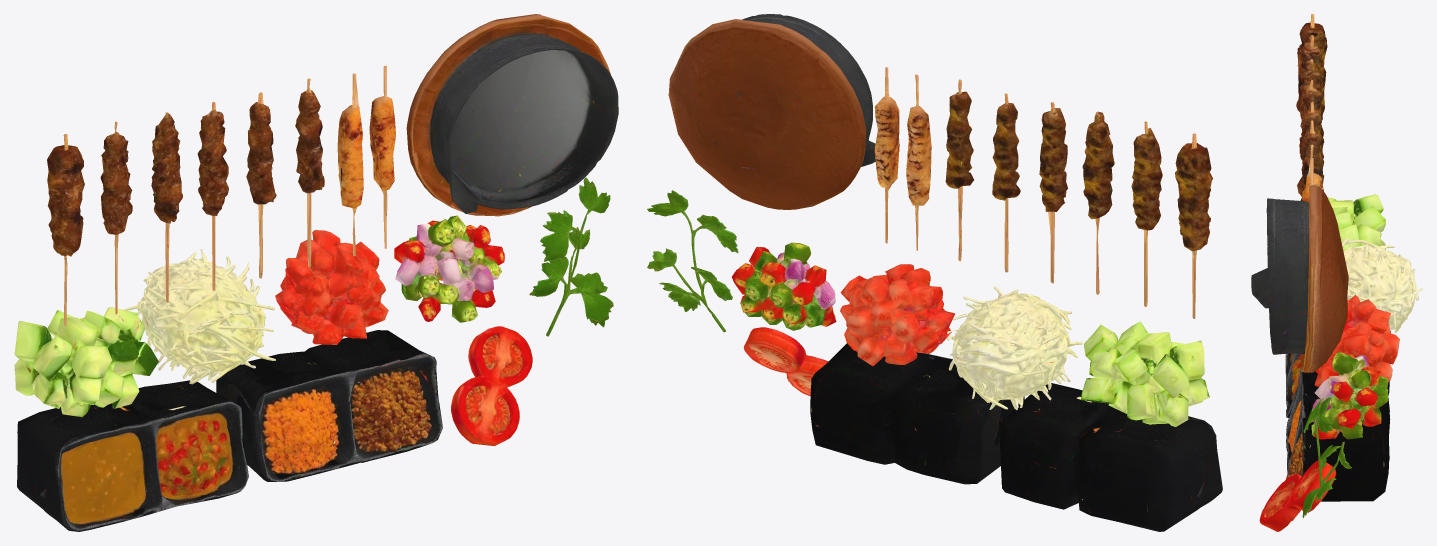
The model's file is sate-maranggi.glb.
3 renders of one model, left to right at view 1: azimuth 30°, elevation 25°; view 2: azimuth 150°, elevation 25°; view 3: azimuth 270°, elevation 25°, orthographic. The views are drawn at different scales.
Parts seen in each view (by area): view 1: Object_5; view 2: Object_5; view 3: Object_5.
Boxes of the visible parts, x1=… form: Object_5: x1=14, y1=14, x2=618, y2=531; Object_5: x1=647, y1=14, x2=1222, y2=531; Object_5: x1=1251, y1=14, x2=1422, y2=531.
Size of the model in its own units: 1.9 by 1.26 by 0.5586.
1 material, 1 textured.
